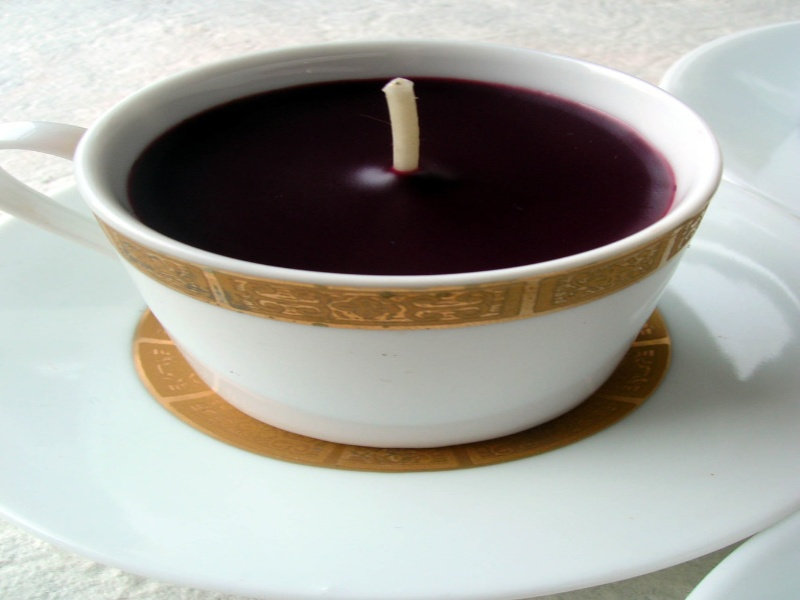cup: (2, 25, 758, 457)
